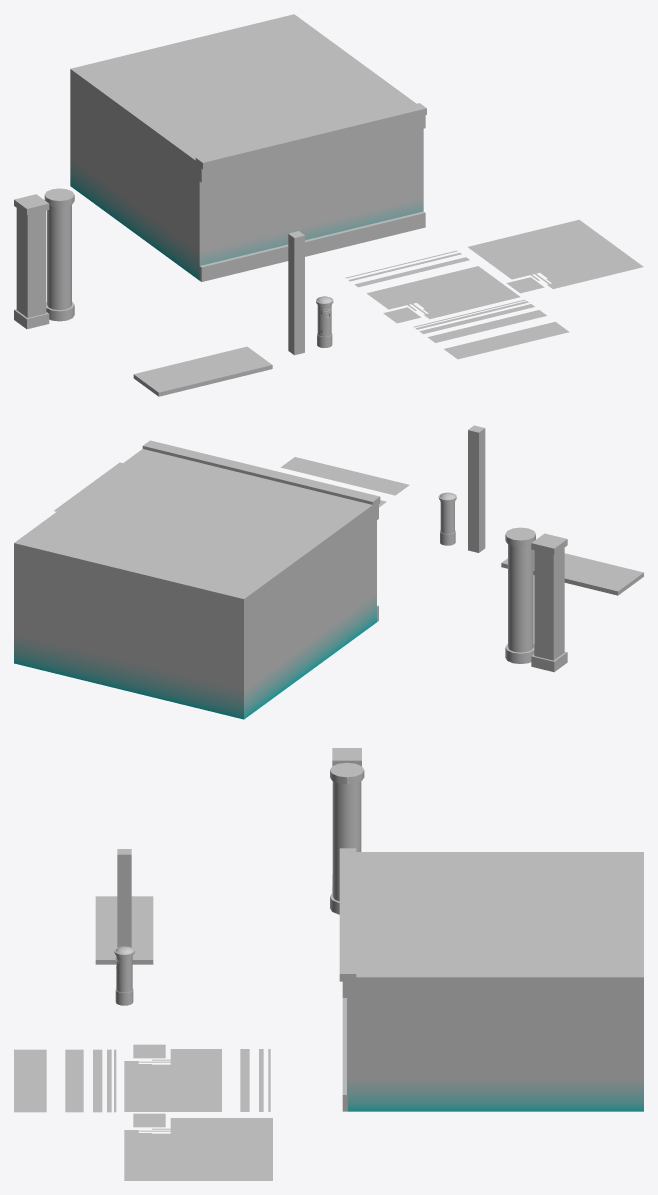
The model's file is UltimateTrimExamples_Blender.fbx.
3 renders of one model, top to bottom at view 1: azimuth 30°, elevation 25°; view 2: azimuth 150°, elevation 25°; view 3: azimuth 270°, elevation 25°, orthographic. The views are drawn at different scales.
Visible parts, largest first — view 1: Building_8x8m, HotspotAtlas.001, Building_RoofTrim_018m, HotspotAtlas, Building_SkirtingTrim_01_8m, HotspotAtlas.002, TableTop, Building_Pillar_Square_01, Building_Pillar_Round_01, Pillar_4m, PostBox_HotspotUvs; view 2: Building_8x8m, Building_Pillar_Square_01, Building_Pillar_Round_01, Building_RoofTrim_018m, Pillar_4m, TableTop, HotspotAtlas.002, PostBox_HotspotUvs, Building_Pillar_Square_01_Top, Building_Pillar_Round_01_Top, Building_Pillar_Square_01_Bottom; view 3: Building_8x8m, HotspotAtlas.001, HotspotAtlas, HotspotAtlas.002, TableTop, Building_RoofTrim_018m, Building_Pillar_Round_01, Pillar_4m, PostBox_HotspotUvs, Building_Pillar_Round_01_Top.
Boxes of the visible parts, box(x1,y1,x2,y2) form: Building_8x8m: box(70, 14, 423, 280); HotspotAtlas.001: box(468, 219, 643, 293); Building_RoofTrim_018m: box(195, 103, 426, 182); HotspotAtlas: box(345, 250, 519, 323); Building_SkirtingTrim_01_8m: box(199, 211, 425, 281); HotspotAtlas.002: box(413, 299, 569, 359); TableTop: box(133, 346, 272, 396); Building_Pillar_Square_01: box(16, 208, 46, 317); Building_Pillar_Round_01: box(47, 204, 71, 310); Pillar_4m: box(288, 231, 304, 355); PostBox_HotspotUvs: box(316, 296, 333, 347); Building_8x8m: box(14, 449, 376, 719); Building_Pillar_Square_01: box(534, 548, 564, 660); Building_Pillar_Round_01: box(508, 544, 533, 652); Building_RoofTrim_018m: box(142, 440, 380, 519); Pillar_4m: box(468, 425, 485, 552); TableTop: box(501, 550, 643, 595); HotspotAtlas.002: box(280, 457, 409, 507); PostBox_HotspotUvs: box(438, 492, 456, 545); Building_Pillar_Square_01_Top: box(531, 533, 567, 554); Building_Pillar_Round_01_Top: box(505, 527, 535, 546); Building_Pillar_Square_01_Bottom: box(531, 651, 567, 672); Building_8x8m: box(347, 852, 643, 1111); HotspotAtlas.001: box(124, 1113, 272, 1180); HotspotAtlas: box(124, 1044, 270, 1111); HotspotAtlas.002: box(14, 1049, 116, 1112); TableTop: box(95, 896, 153, 964); Building_RoofTrim_018m: box(339, 848, 356, 997); Building_Pillar_Round_01: box(332, 781, 361, 901); Pillar_4m: box(117, 849, 131, 947); PostBox_HotspotUvs: box(114, 946, 134, 1005); Building_Pillar_Round_01_Top: box(330, 762, 364, 784).
Bounding box in the file's own units: 18.8 × 4.11 × 16.98.
